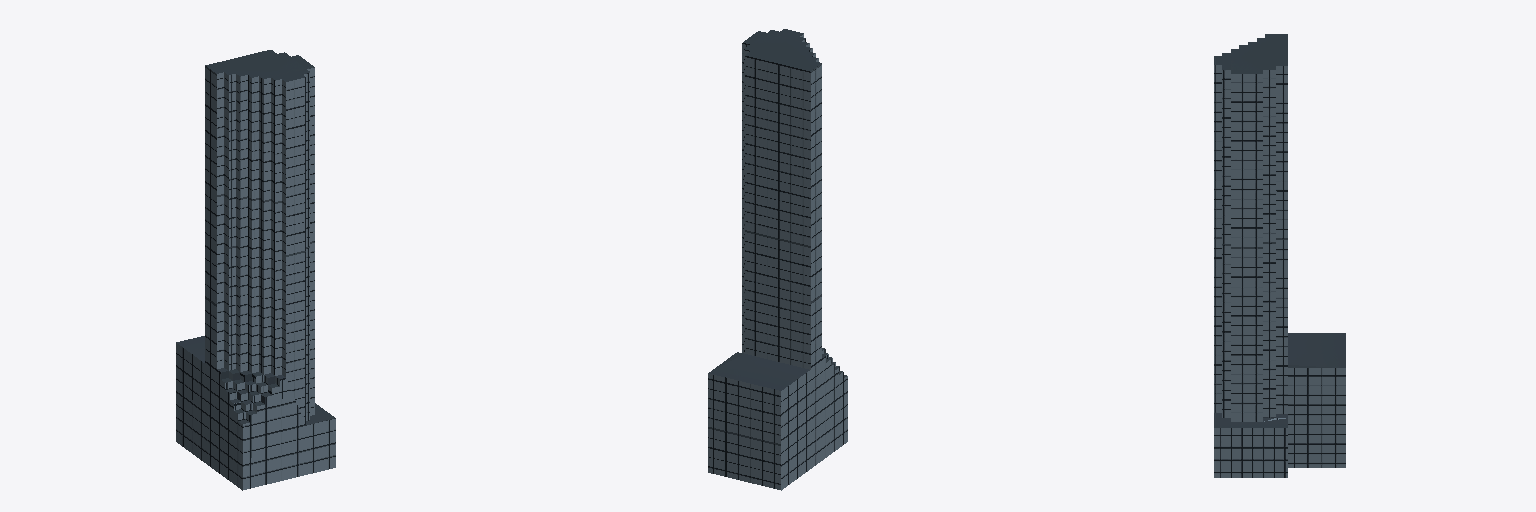
3 renders of one model, left to right at view 1: azimuth 30°, elevation 25°; view 2: azimuth 150°, elevation 25°; view 3: azimuth 270°, elevation 25°, orthographic.
Visible parts, largest first — view 1: TrumpTowerNY; view 2: TrumpTowerNY; view 3: TrumpTowerNY.
Part boxes in pixels (left/top/right/bottom): TrumpTowerNY: left=176, top=50, right=335, bottom=490; TrumpTowerNY: left=708, top=29, right=847, bottom=490; TrumpTowerNY: left=1214, top=34, right=1345, bottom=477.
Size of the model in its own units: 1.04 by 4.22 by 1.28.
Materials: 1 (1 with a texture image).